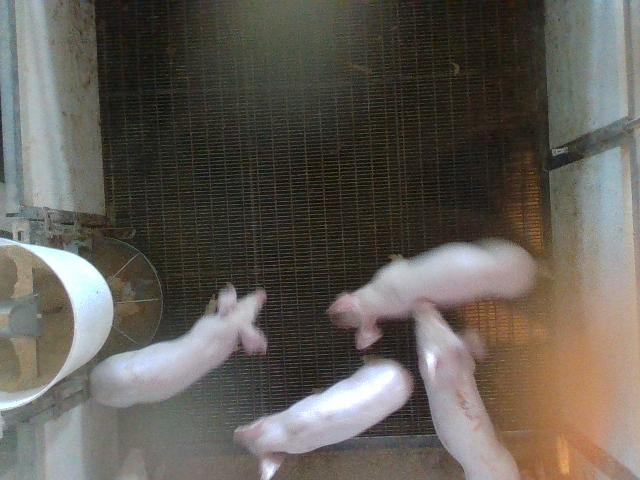pig-3: (412, 304, 520, 479)
